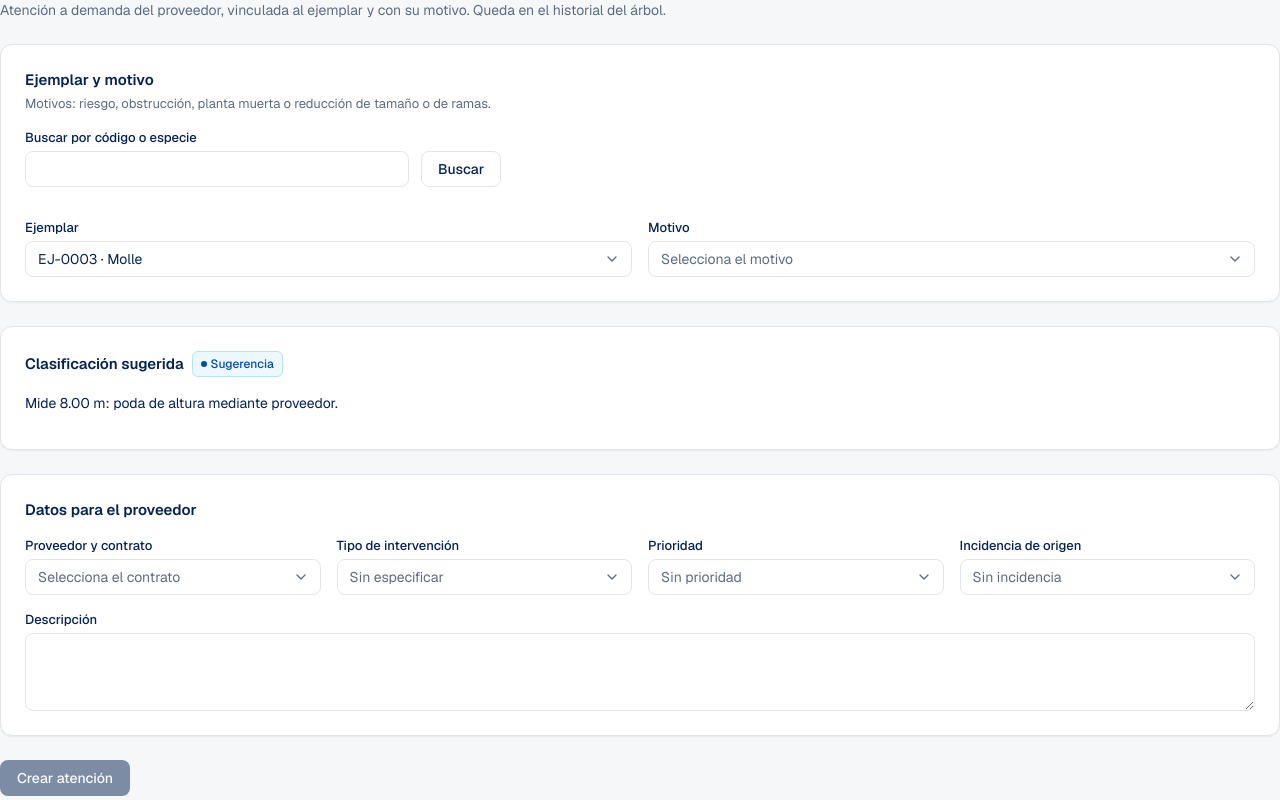
Test case: SolicitarPodaAlturaPage › muestra el error del servidor y no sale del formulario
Expected: the text "Mide 8.00 m: poda de altura mediante proveedor." is shown, [25, 394, 338, 412]
Select "Obstrucción" in the dropdown with id "motivo-altura" at (952, 259), box [648, 241, 1255, 277]
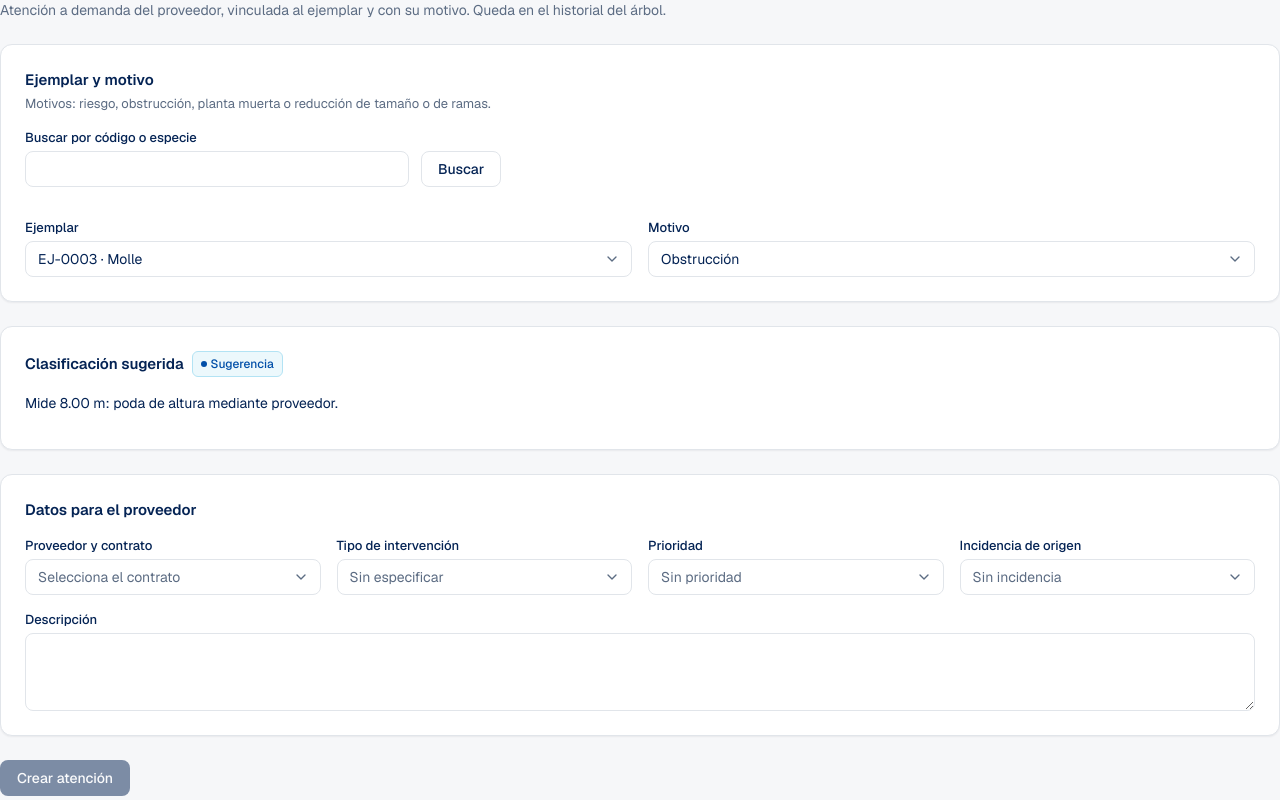
Select "Arbolistas del Sur · Poda de altura · C-2026-01" in the dropdown with id "contrato-altura" at (173, 577), box [25, 559, 320, 595]
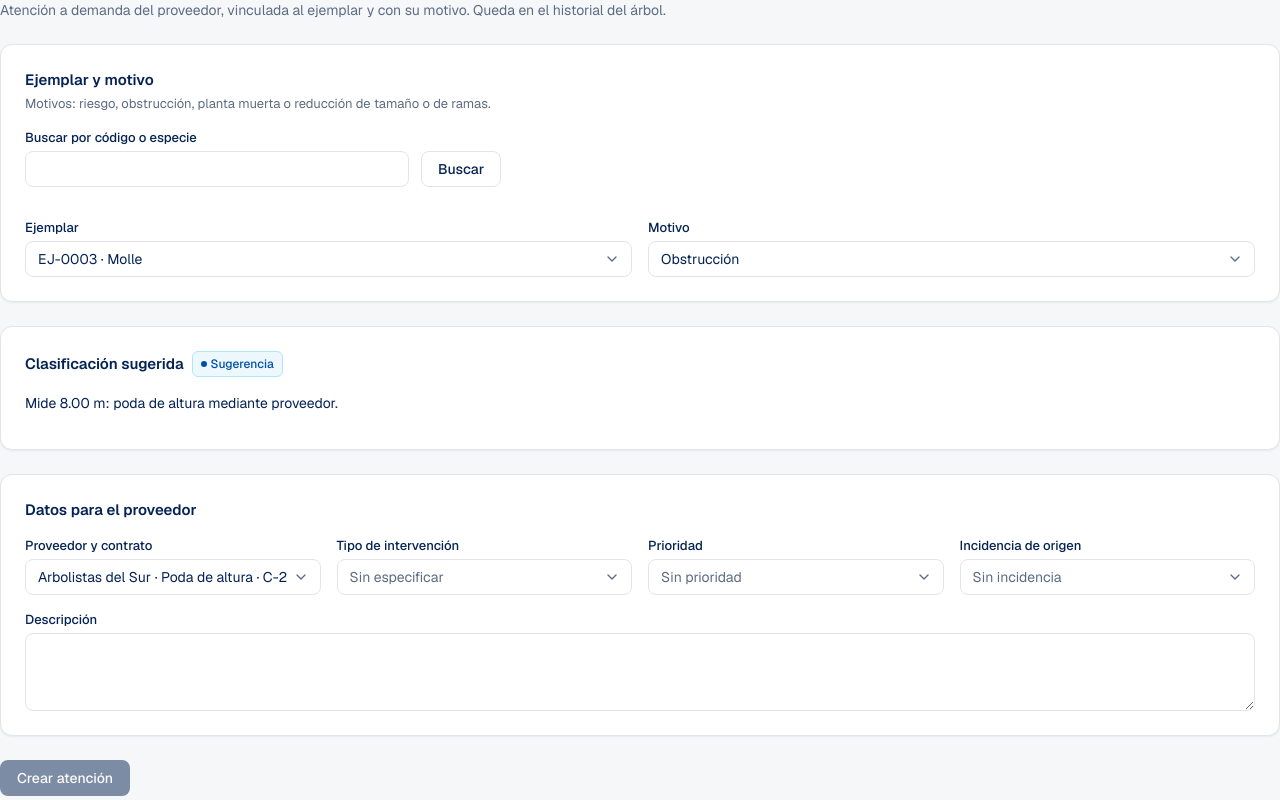
Type "Tapa la señal" into the text box labelled "Descripción" at (640, 672), box [25, 633, 1255, 711]
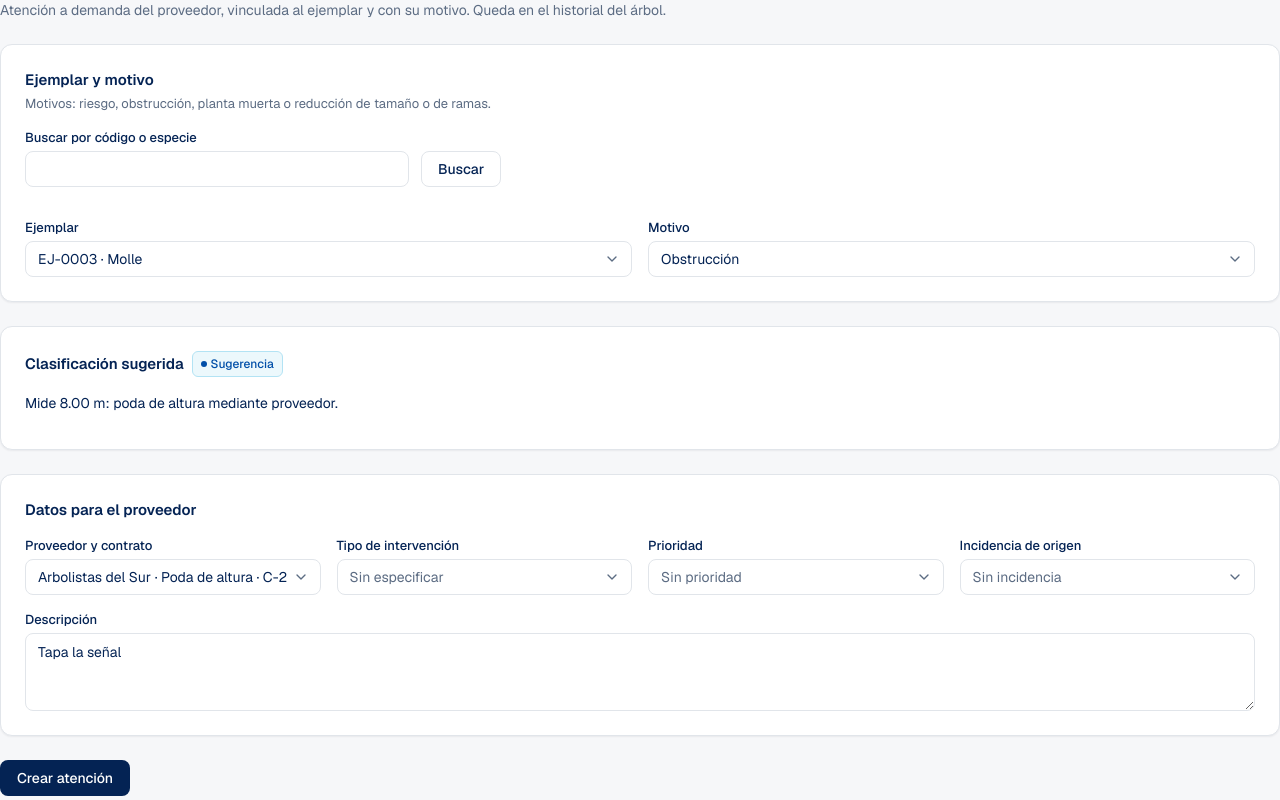
Click the button "Crear atención" at (65, 778), box [0, 760, 130, 796]
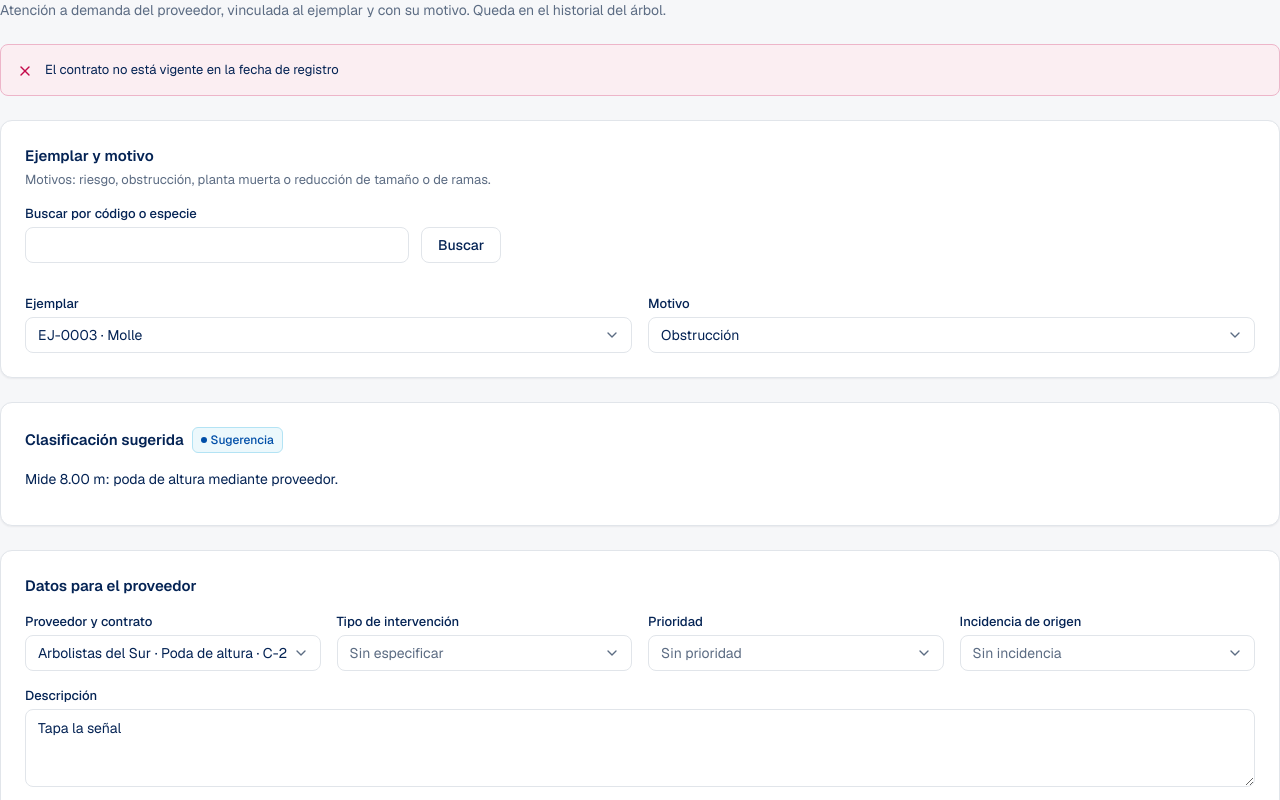
Expected: the text "El contrato no está vigente en la fecha de registro" is shown, [45, 61, 339, 78]
